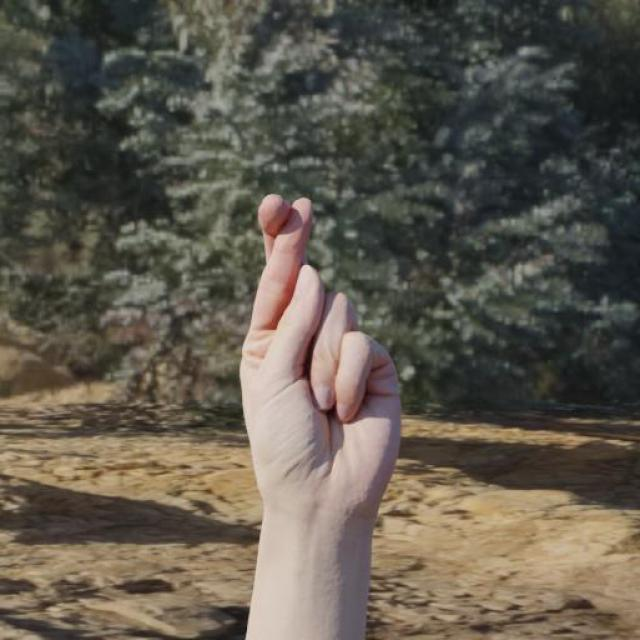R: (236, 190, 407, 519)
